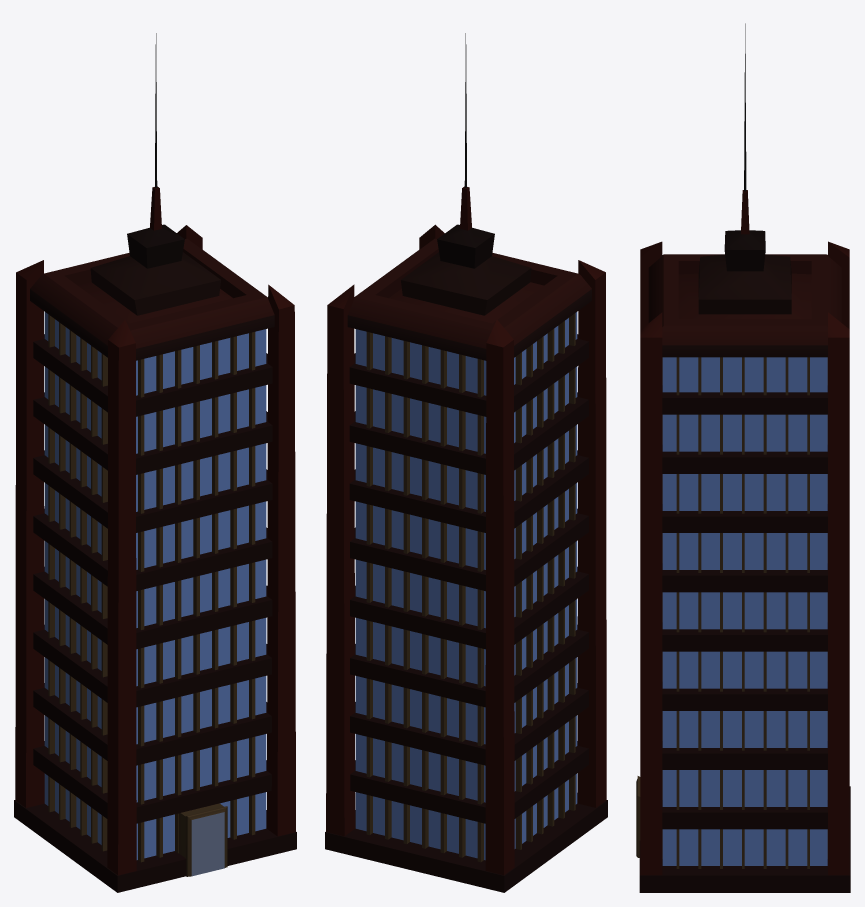
File: BoxBuilding 02.fbx
3 renders of one model, left to right at view 1: azimuth 30°, elevation 25°; view 2: azimuth 150°, elevation 25°; view 3: azimuth 270°, elevation 25°, orthographic.
Parts seen in each view (by area): view 1: Box_Building_2; view 2: Box_Building_2; view 3: Box_Building_2.
Boxes of the visible parts, x1=… form: Box_Building_2: x1=14, y1=33, x2=296, y2=892; Box_Building_2: x1=325, y1=33, x2=607, y2=892; Box_Building_2: x1=636, y1=23, x2=850, y2=892.
Size of the model in its own units: 969 by 4227 by 985.
